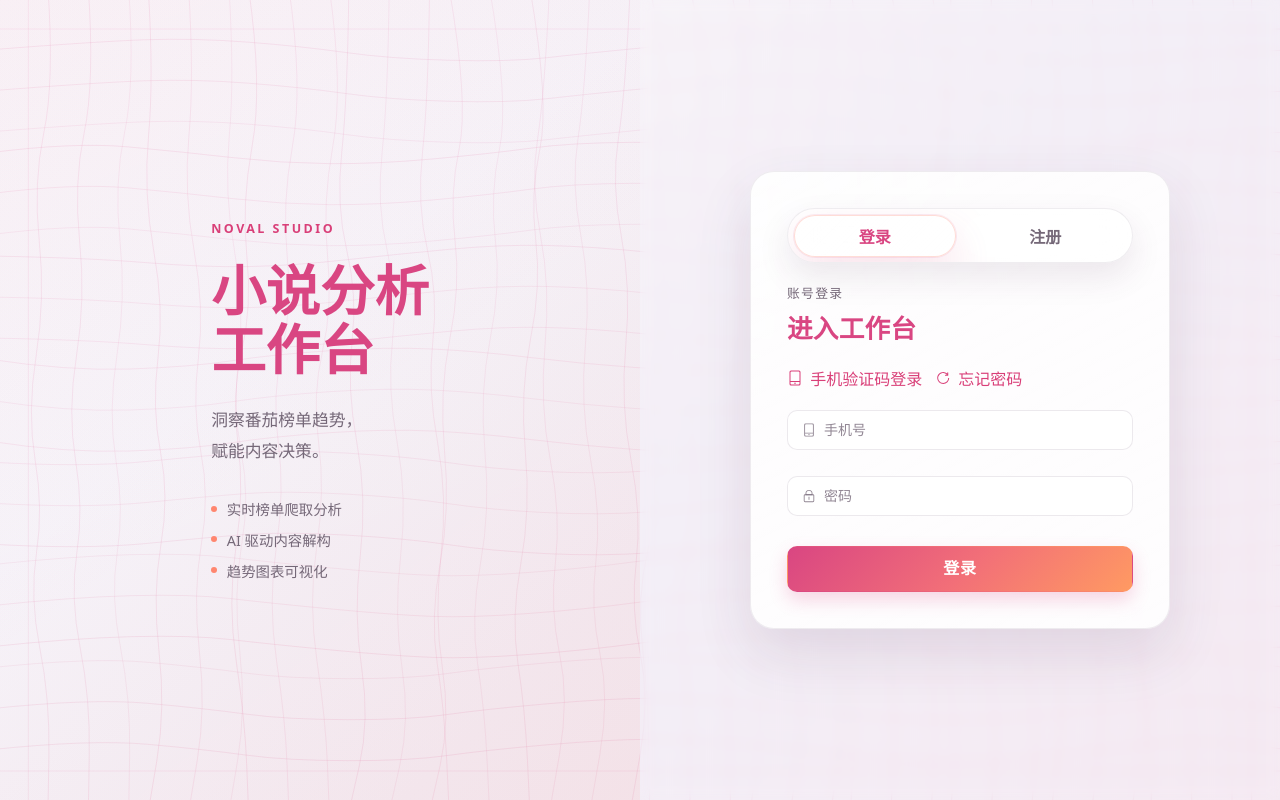
Test: LoginView › register requires sms code before request
Click the button with test id "auth-mode-register" at (1045,236), box [964, 215, 1126, 257]
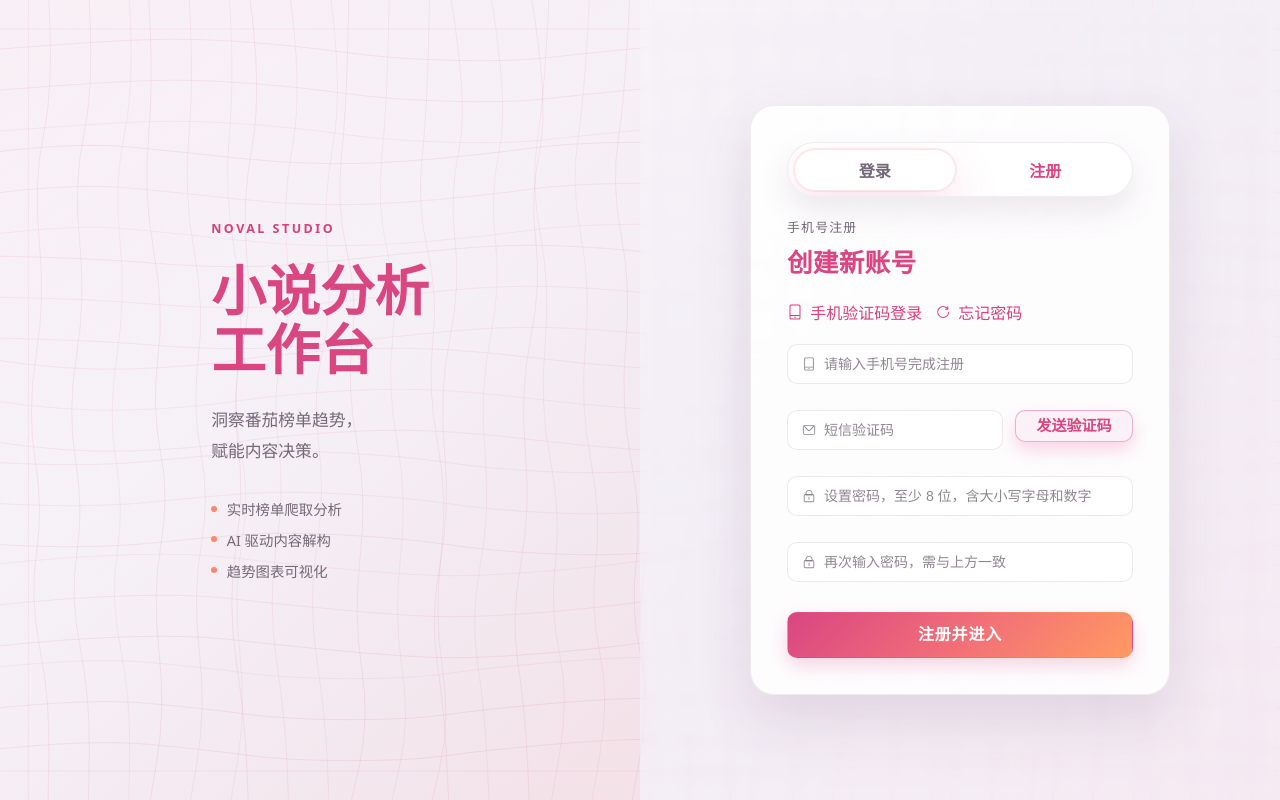
Type "13800138000" into the field with test id "login-phone" at (971,364), box [824, 345, 1118, 383]
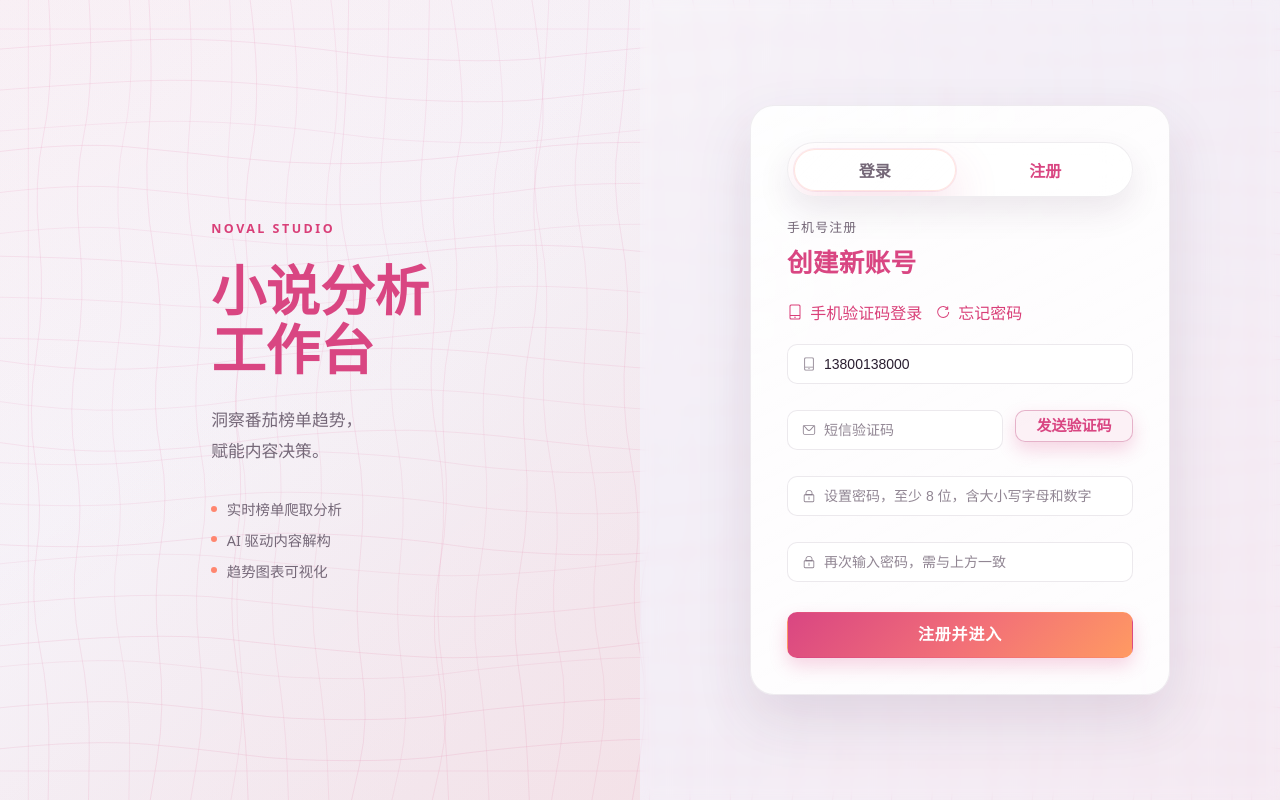
Type "Password123" into the password field with test id "login-password" at (971,496), box [824, 477, 1118, 515]
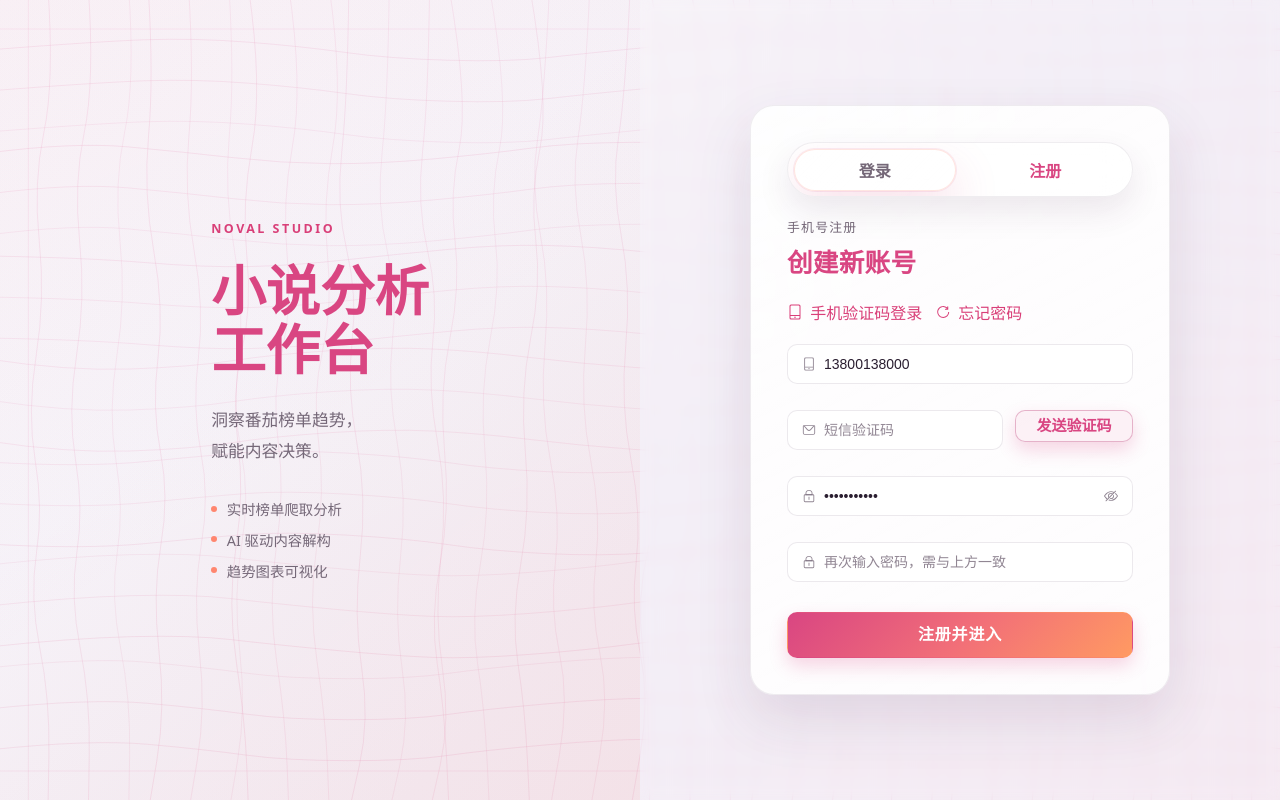
Type "Password123" into the password field with test id "register-confirm-password" at (971,562), box [824, 543, 1118, 581]
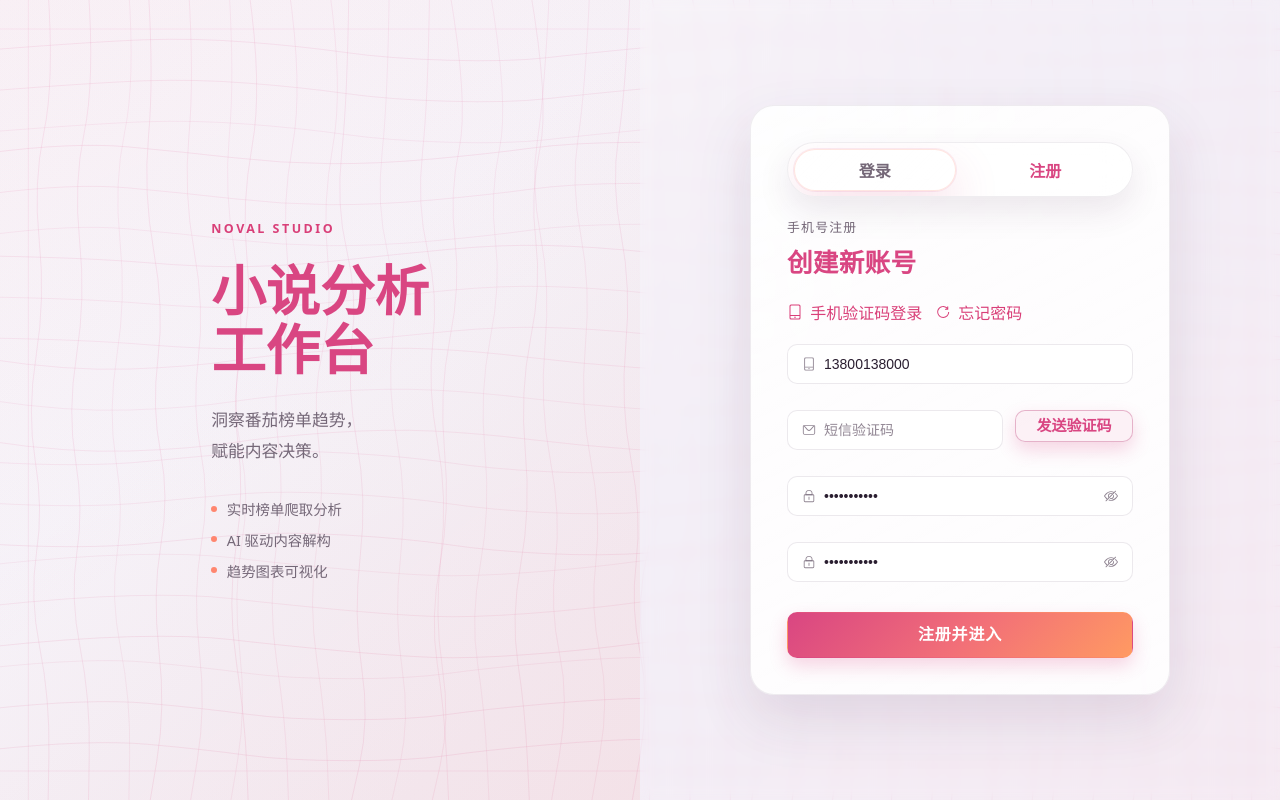
Submit the form, box [787, 344, 1133, 658]
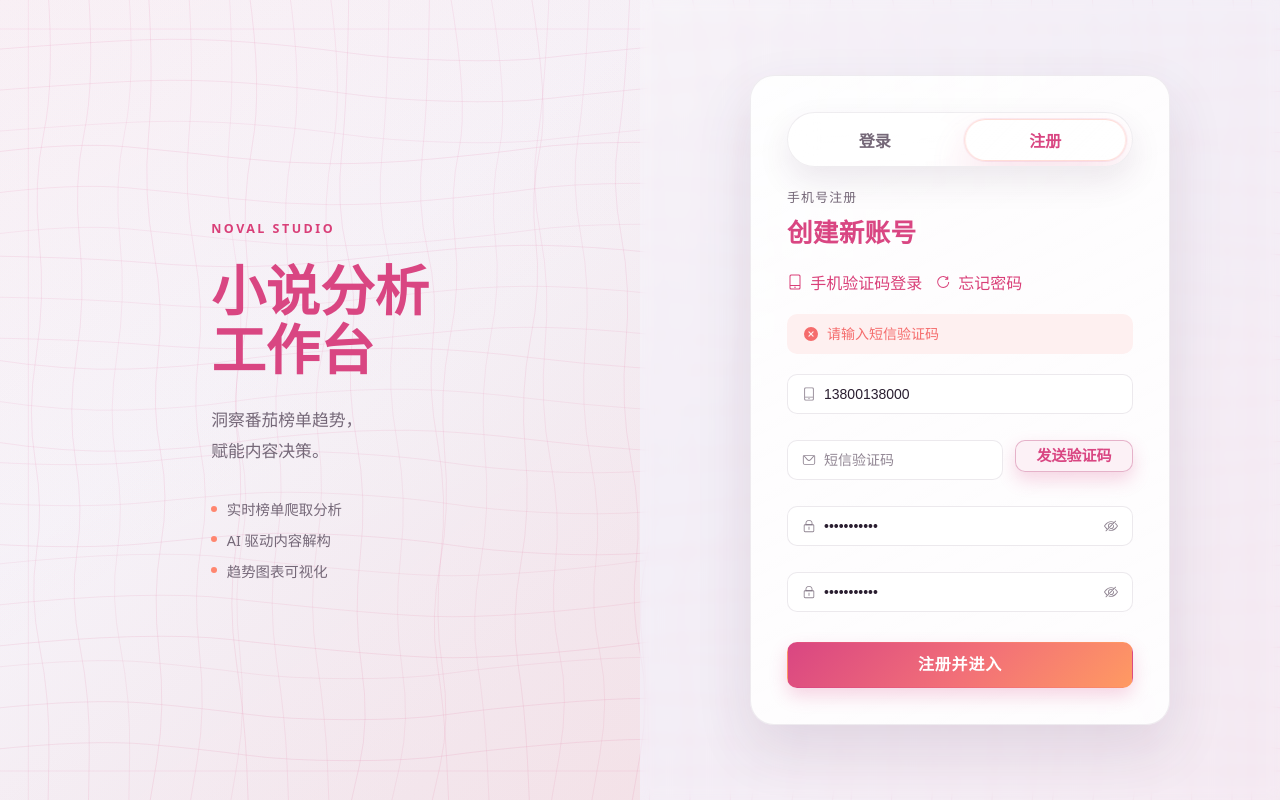
Expected: the text "请输入短信验证码" is shown, [827, 322, 939, 346]
